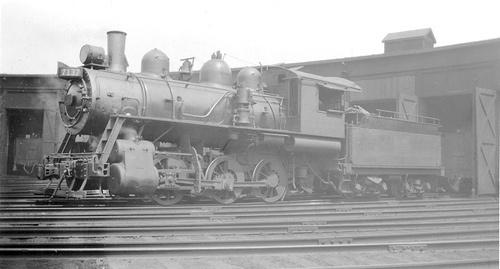train: (35, 29, 445, 206)
